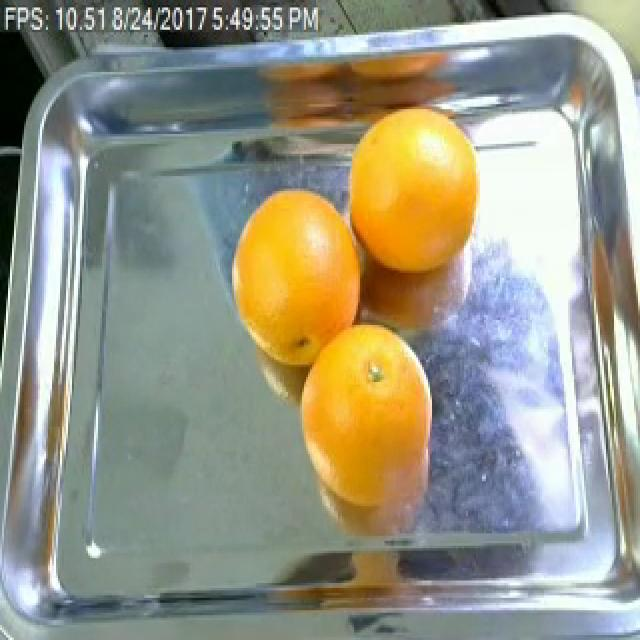Fruit: (218, 171, 370, 375)
